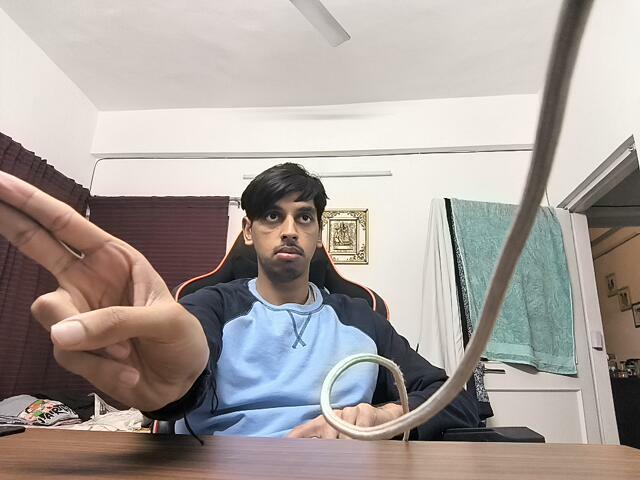FORWARD: (0, 160, 215, 405)
